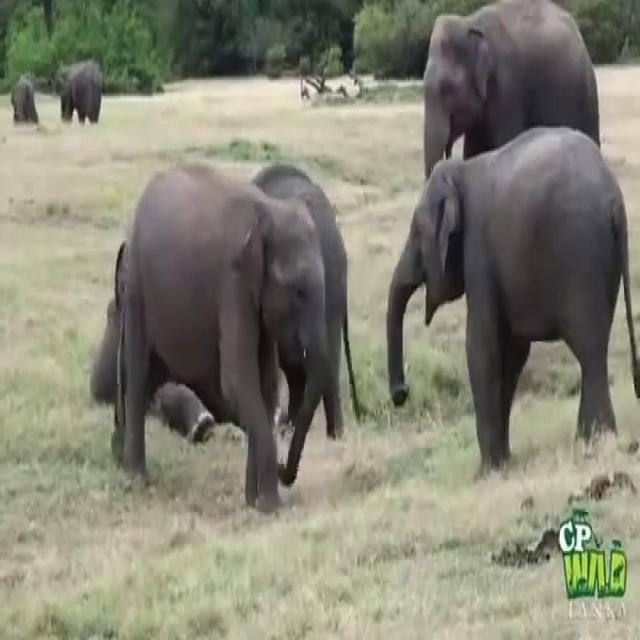Elephant: (386, 122, 639, 476), (109, 158, 353, 514), (422, 0, 601, 180), (56, 57, 104, 124), (10, 74, 38, 124)
